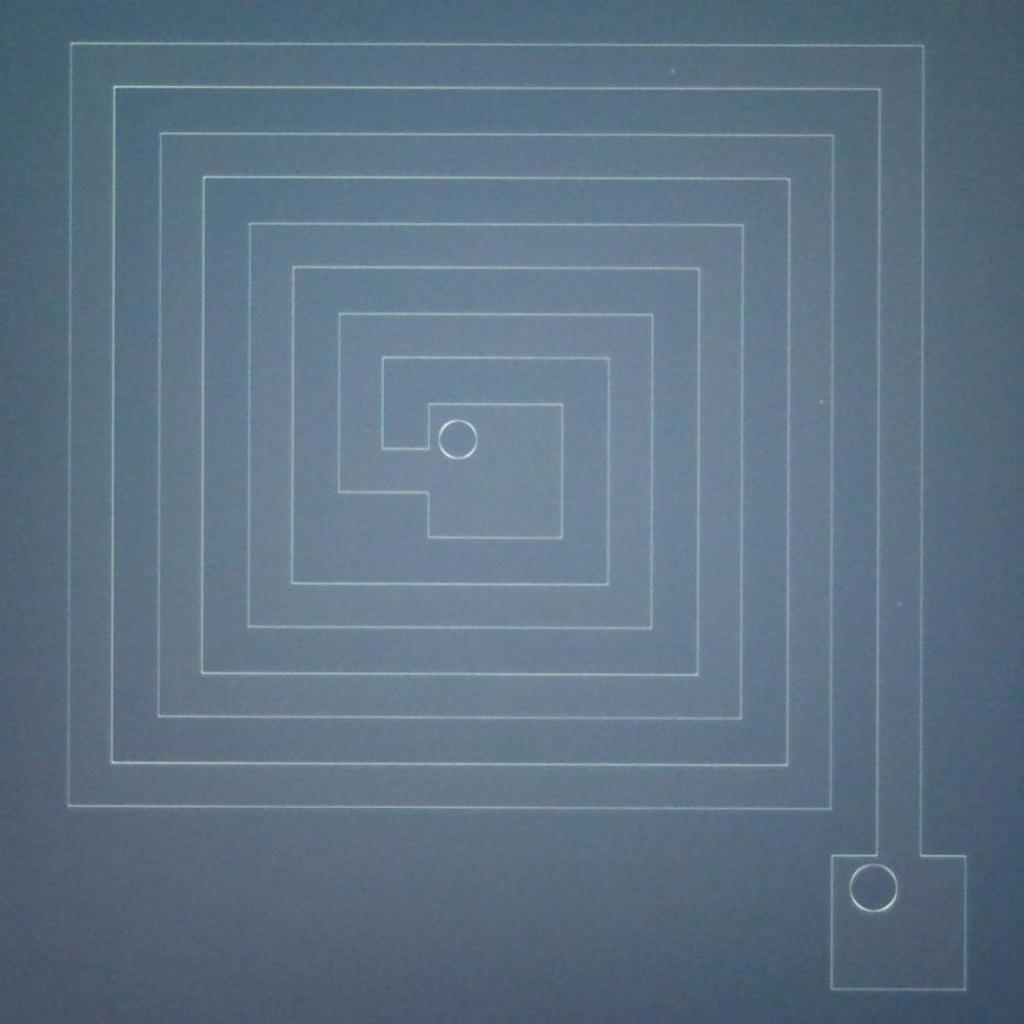circle: (848, 861, 898, 919), (434, 416, 478, 464)
